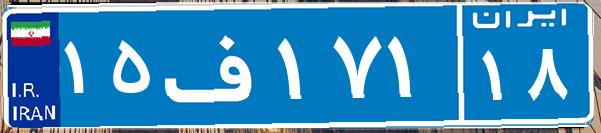1: (385, 28, 445, 110), (273, 28, 330, 110), (57, 26, 110, 107), (475, 38, 525, 113)
5: (110, 28, 158, 105)
7: (330, 28, 385, 110)
8: (525, 38, 570, 115)
ف: (158, 15, 273, 115)
